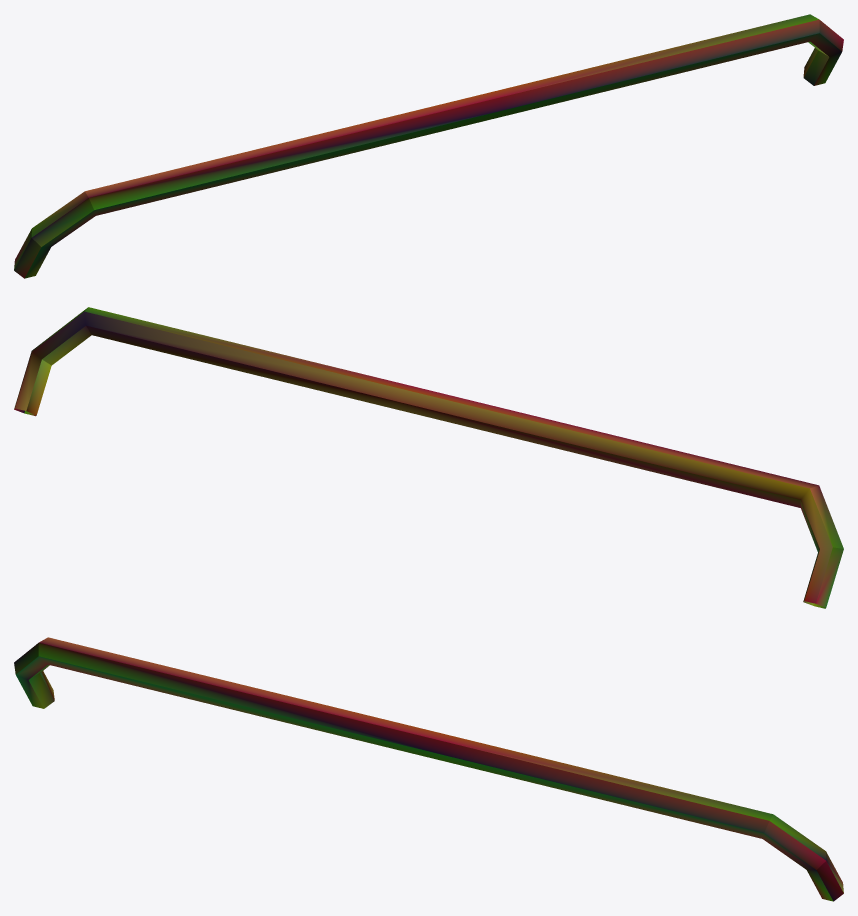
File: SM_busChair4.fbx
3 renders of one model, top to bottom at view 1: azimuth 30°, elevation 25°; view 2: azimuth 150°, elevation 25°; view 3: azimuth 330°, elevation 25°, orthographic.
Visible parts, largest first — view 1: polySurface610; view 2: polySurface610; view 3: polySurface610.
Boxes of the visible parts, x1,y1,x2,y2 form: polySurface610: (14,14,843,278); polySurface610: (14,307,843,608); polySurface610: (14,637,843,901).
Bounding box in the file's own units: 67.18 × 7.48 × 5.93.
